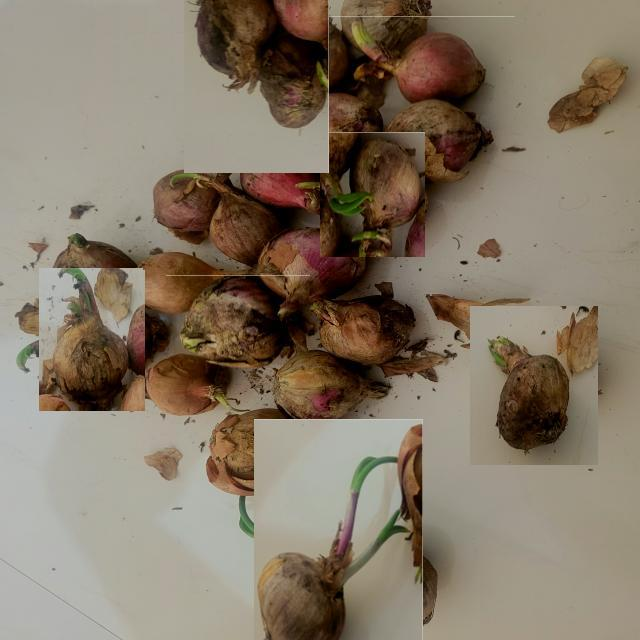healthy: (383, 33, 483, 101), (142, 252, 227, 313), (146, 354, 230, 414)
rotten: (257, 227, 364, 317), (180, 277, 285, 366), (489, 336, 568, 452), (387, 99, 492, 182), (311, 293, 415, 364), (196, 0, 276, 91), (260, 32, 325, 127)
sprouting: (258, 457, 407, 639), (50, 268, 128, 409)
